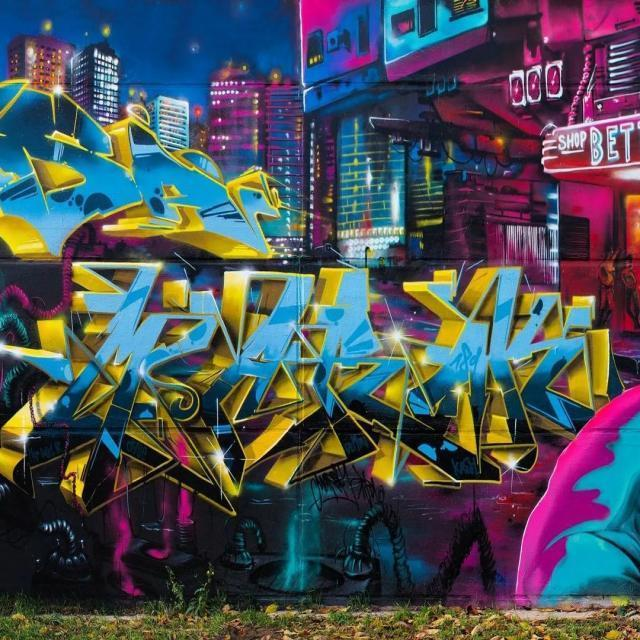-: (1, 259, 618, 508), (0, 70, 300, 260), (455, 339, 483, 382)
